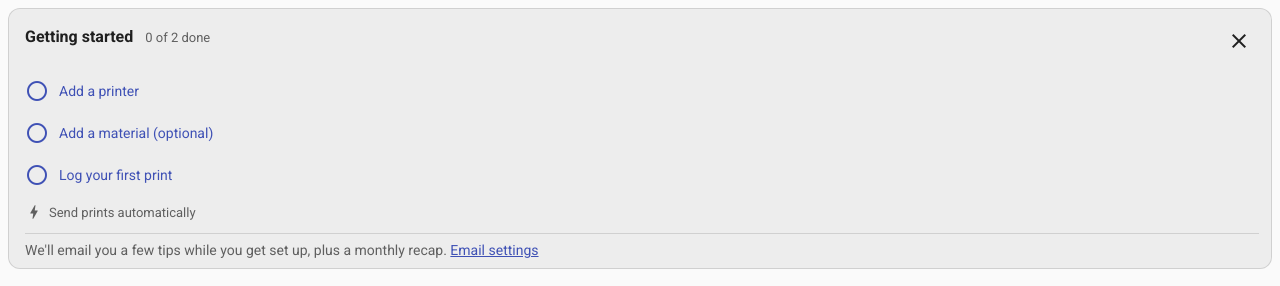
Scenario: GettingStartedChecklistComponent › inline email notice › hides the notice once acknowledged
The width and height of the screenshot is (1280, 286).
Click the link "Add a material (optional)": (119, 133) [25,121,213,145]
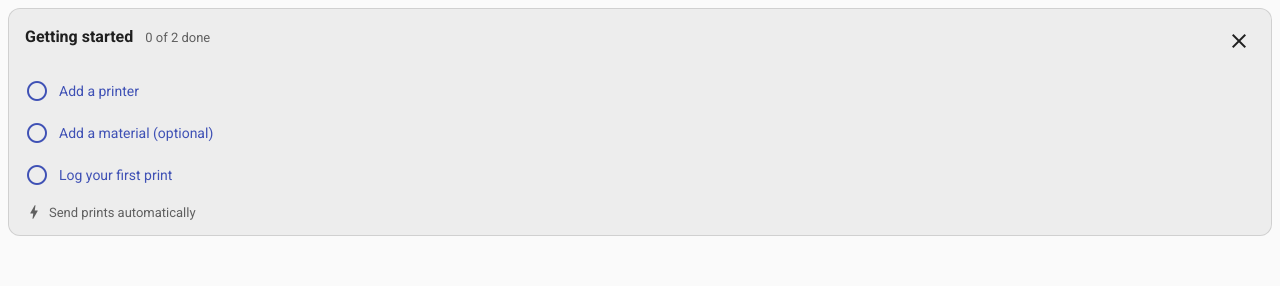
Check: the element with test id "inline-email-notice" is gone
